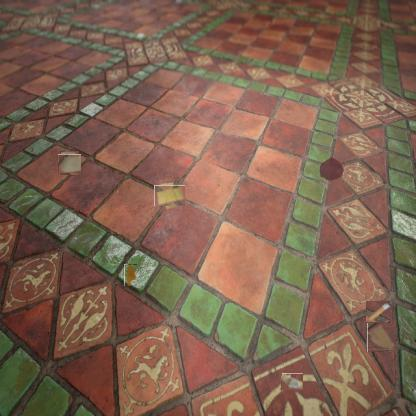dirty: (367, 323, 396, 352), (156, 183, 183, 208), (366, 302, 390, 324), (59, 153, 80, 174), (281, 373, 303, 390)
liquid: (318, 156, 346, 182), (124, 264, 137, 286)
